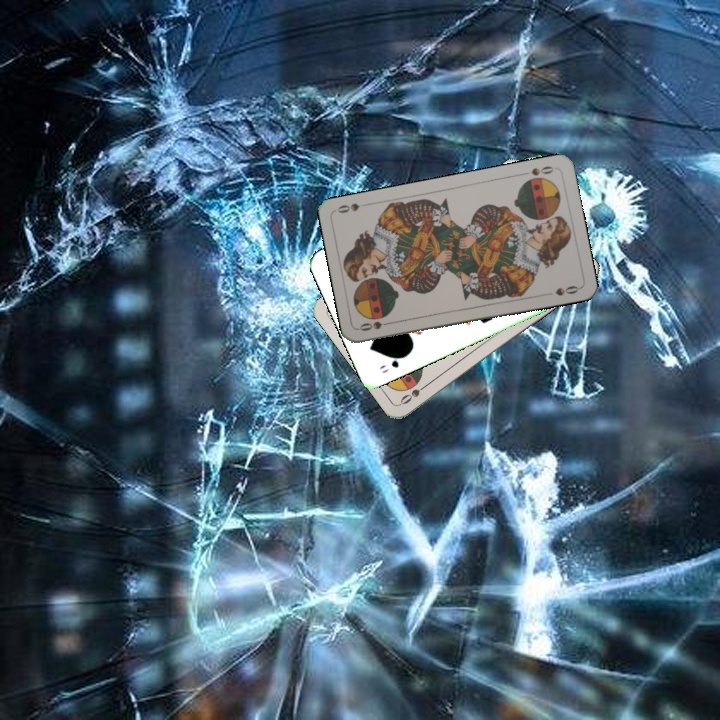GO: (375, 350, 410, 376)
SO: (396, 379, 432, 407), (355, 317, 396, 334), (518, 162, 556, 178)
